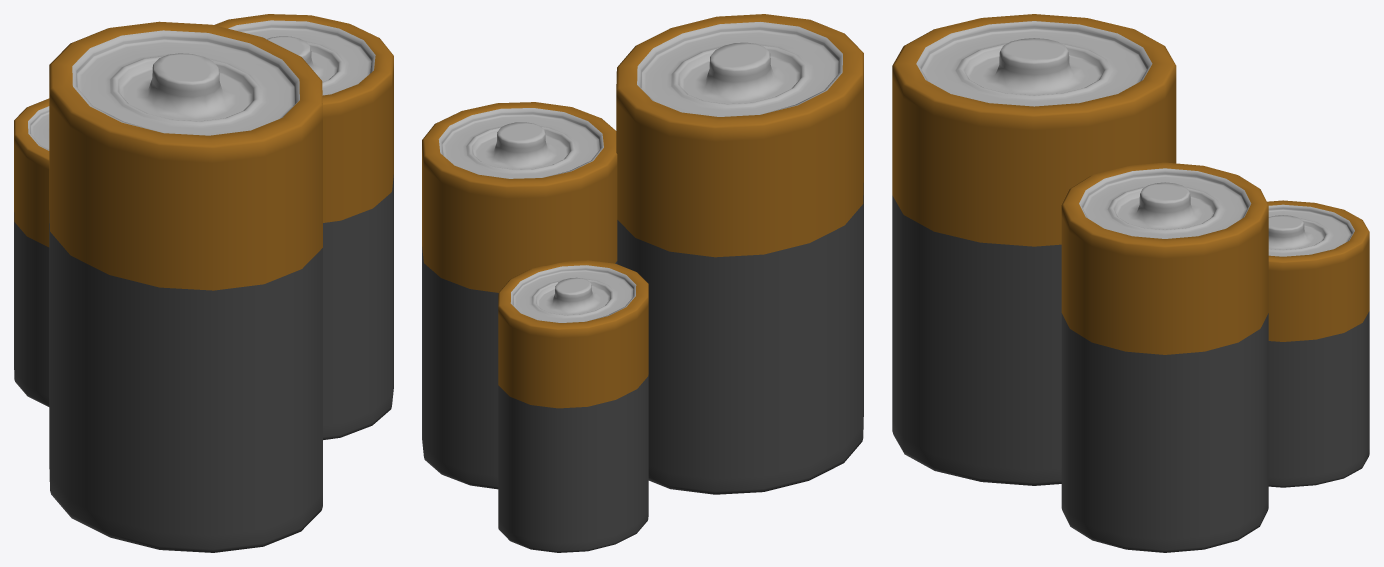
Rendered from Battery-Pack.fbx.
The picture shows the model from 3 angles, left to right: view 1: azimuth 30°, elevation 25°; view 2: azimuth 150°, elevation 25°; view 3: azimuth 270°, elevation 25°; orthographic projection. The views are drawn at different scales.
Parts seen in each view (by area): view 1: Battery-Big, Battery, Battery-Small; view 2: Battery-Big, Battery, Battery-Small; view 3: Battery-Big, Battery, Battery-Small.
Boxes of the visible parts, box(x1,y1,x2,y2) form: Battery-Big: box(49, 21, 322, 552); Battery: box(214, 14, 393, 439); Battery-Small: box(14, 98, 49, 406); Battery-Big: box(616, 14, 863, 494); Battery: box(422, 102, 617, 489); Battery-Small: box(498, 260, 648, 552); Battery-Big: box(892, 14, 1176, 485); Battery: box(1061, 162, 1268, 552); Battery-Small: box(1267, 200, 1369, 487).
Size of the model in its own units: 85.41 by 90.73 by 102.
